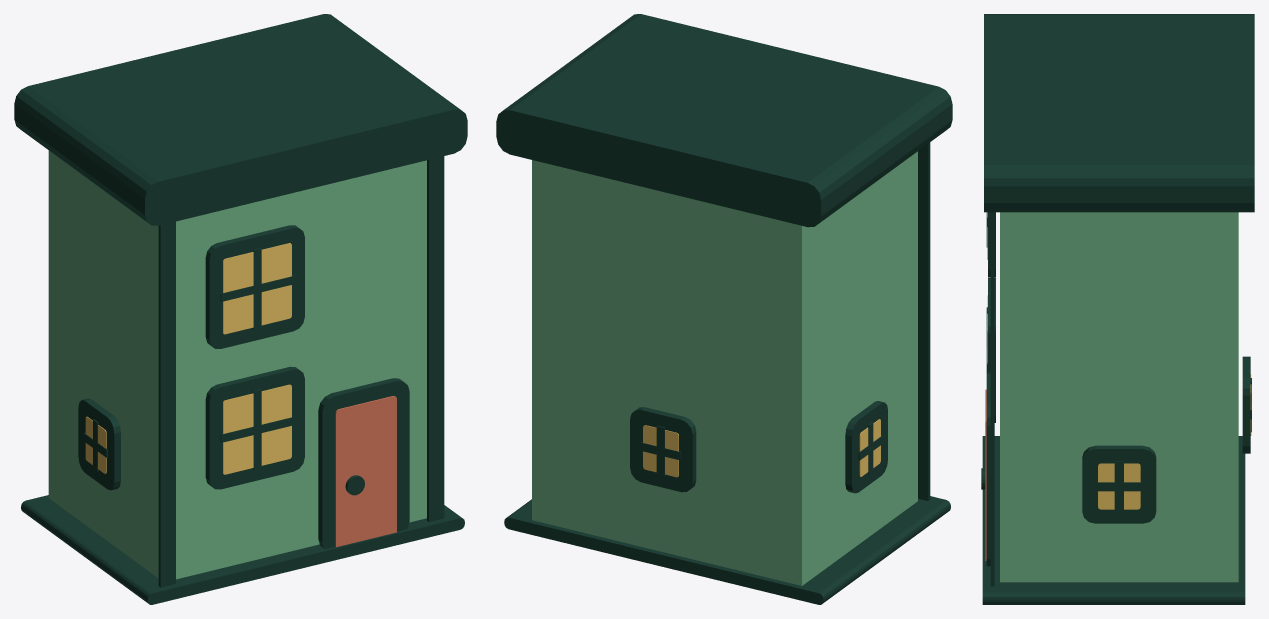
File: variant-02.glb
3 views of the same model, side by side, from view 1: azimuth 30°, elevation 25°; view 2: azimuth 150°, elevation 25°; view 3: azimuth 270°, elevation 25° (orthographic). The views are drawn at different scales.
Parts seen in each view (by area): view 1: Townhouse; view 2: Townhouse; view 3: Townhouse.
Boxes of the visible parts, box(x1,y1,x2,y2) form: Townhouse: box(14, 14, 467, 604); Townhouse: box(496, 14, 952, 604); Townhouse: box(981, 14, 1254, 604).
Bounding box in the file's own units: 0.8314 × 1.04 × 0.5886.
